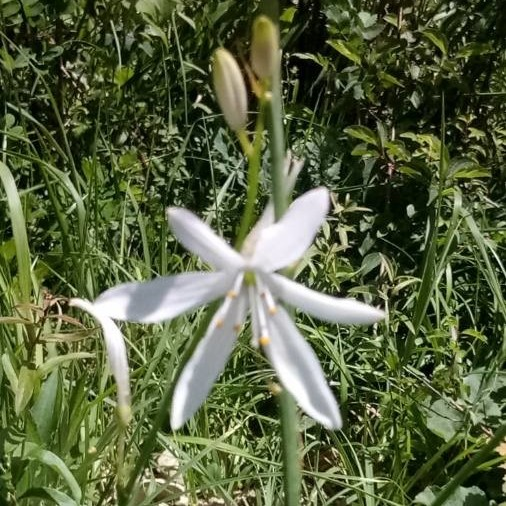obstacle: (111, 190, 345, 446), (4, 174, 98, 493), (406, 153, 481, 477)
